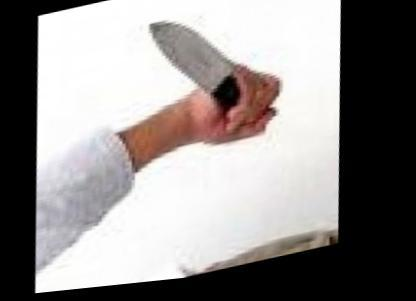knife: (127, 0, 308, 172)
